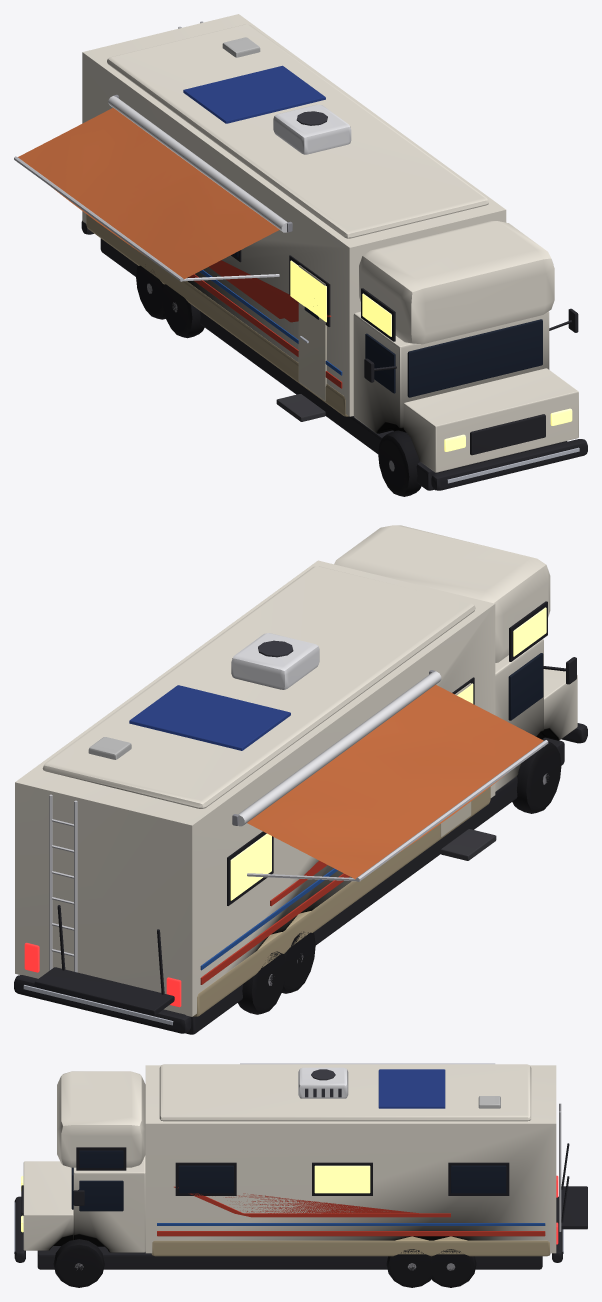
3 views of the same model, one above another, from view 1: azimuth 30°, elevation 25°; view 2: azimuth 150°, elevation 25°; view 3: azimuth 270°, elevation 25° (orthographic). The views are drawn at different scales.
Visible parts, largest first — view 1: roofcap, body.001, awning, bunk, hood, windscreen, cab, solar, skirt, chassis, ac, awning_case (+14 smaller); view 2: body.001, roofcap, awning, bunk, solar, skirt, chassis, ac, awning_case, rack, tyre_0_0, cab (+15 smaller); view 3: body.001, roofcap, bunk, skirt, chassis, cab, hood, solar, swoosh_1, stripe1_1, tyre_0_1, win_1_1_glass (+17 smaller).
Boxes of the visible parts, x1,y1,x2,y2 form: roofcap: (107,24,488,238); body.001: (82,14,506,416); awning: (18,108,279,279); bunk: (359,221,554,344); hood: (403,368,578,472); windscreen: (407,319,542,397); cab: (353,311,549,433); solar: (183,65,325,123); skirt: (86,214,348,416); chassis: (100,238,567,490); ac: (273,104,351,154); awning_case: (108,96,287,232); body.001: (15,560,495,1016); roofcap: (42,566,475,808); awning: (247,684,543,879); bunk: (334,525,550,662); solar: (129,685,290,750); skirt: (193,787,490,1016); chassis: (186,737,564,1034); ac: (231,633,319,689); awning_case: (238,671,441,826); rack: (34,967,174,1015); tyre_0_0: (512,739,561,813); cab: (495,639,543,791); body.001: (145,1065,556,1253); roofcap: (159,1064,531,1121); bunk: (57,1071,145,1167); skirt: (151,1236,550,1256); chassis: (37,1246,542,1269); cab: (73,1155,145,1252); hood: (23,1161,73,1250); solar: (378,1069,445,1108); swoosh_1: (174,1186,450,1217); stripe1_1: (157,1231,545,1236); tyre_0_1: (53,1239,104,1287); win_1_1_glass: (314,1165,370,1193).
Bounding box in the file's own units: 4.64 × 3.7 × 10.34.
